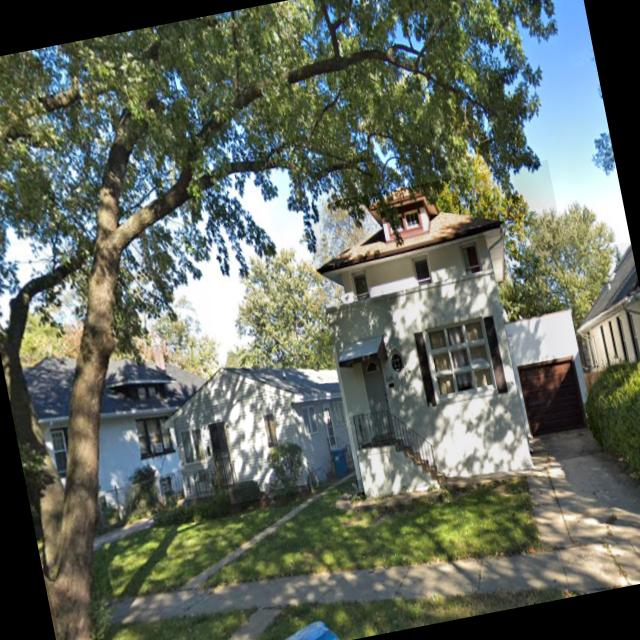House: (304, 159, 604, 500), (2, 322, 232, 544), (155, 345, 361, 514), (561, 241, 640, 377)
